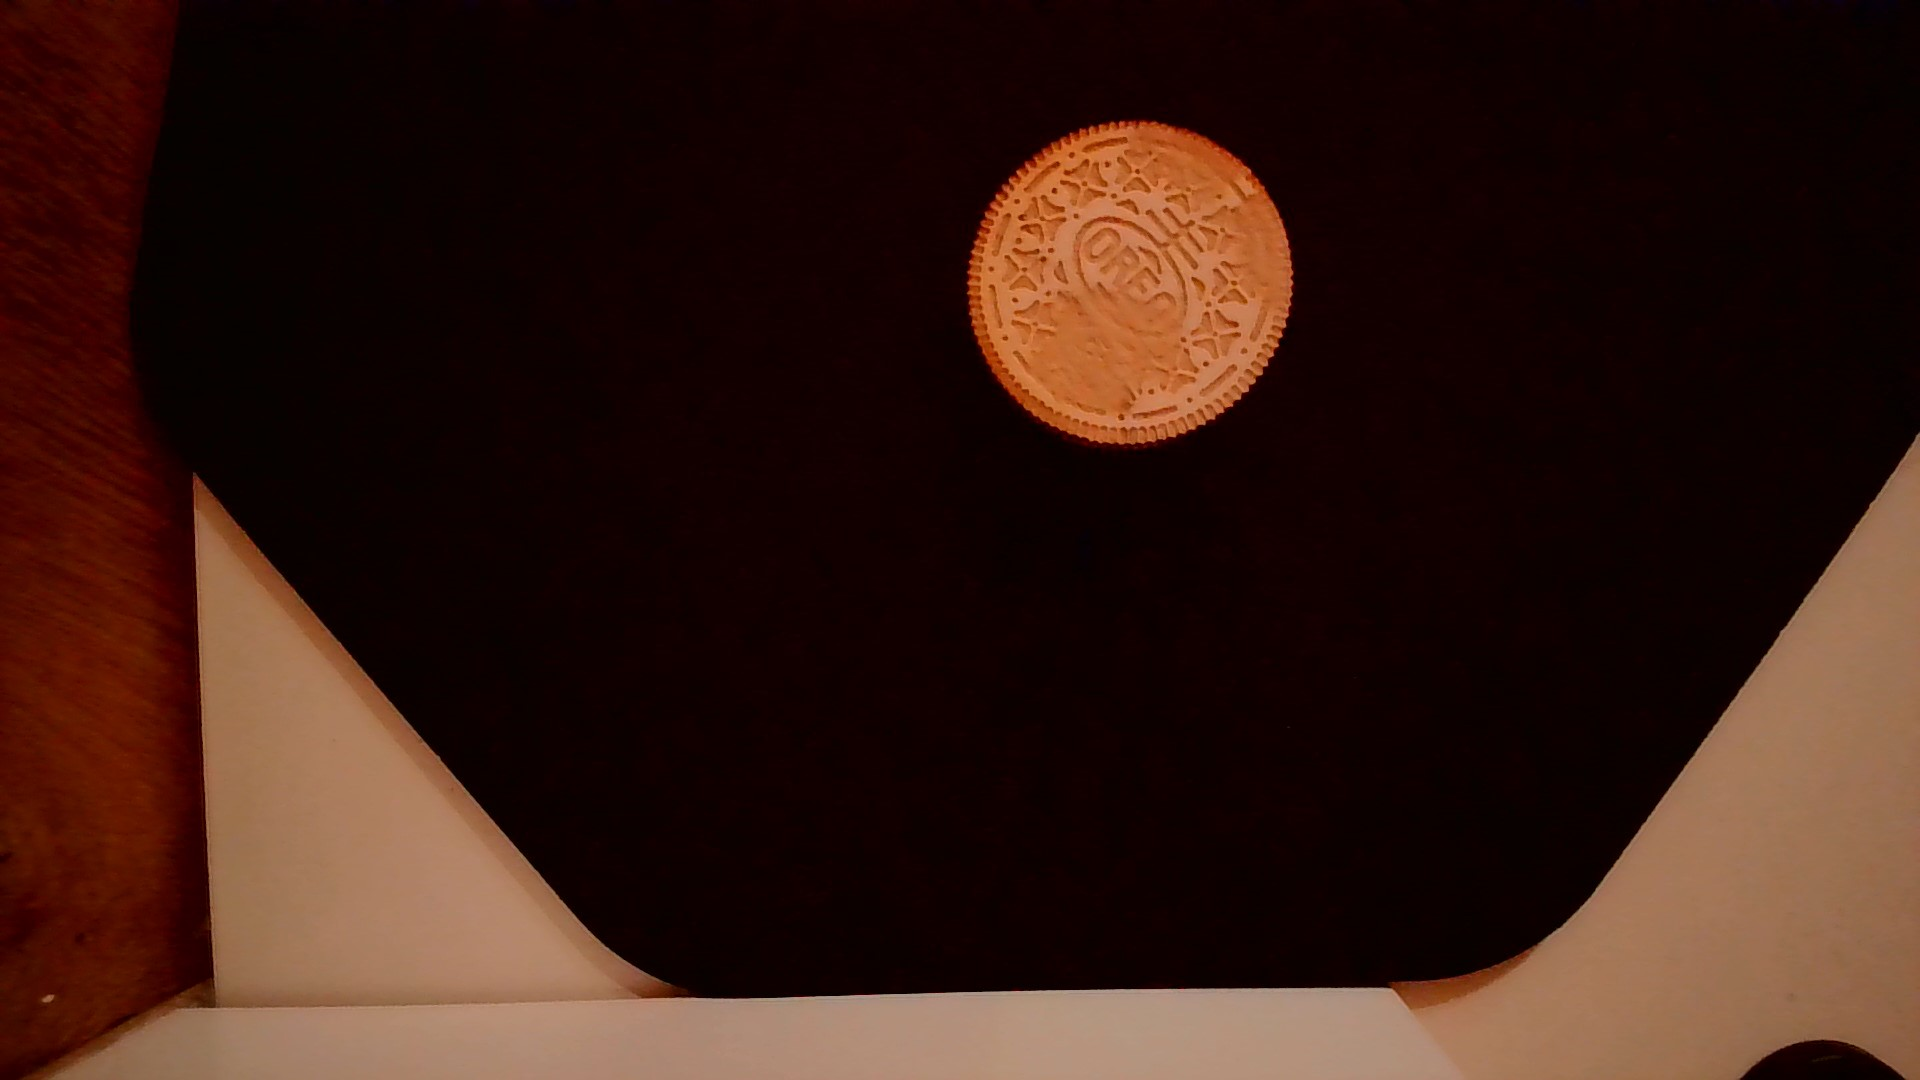Effacé: (1038, 290, 1183, 401), (1134, 120, 1251, 186), (1230, 202, 1292, 301)
Oréo: (953, 109, 1298, 450)
